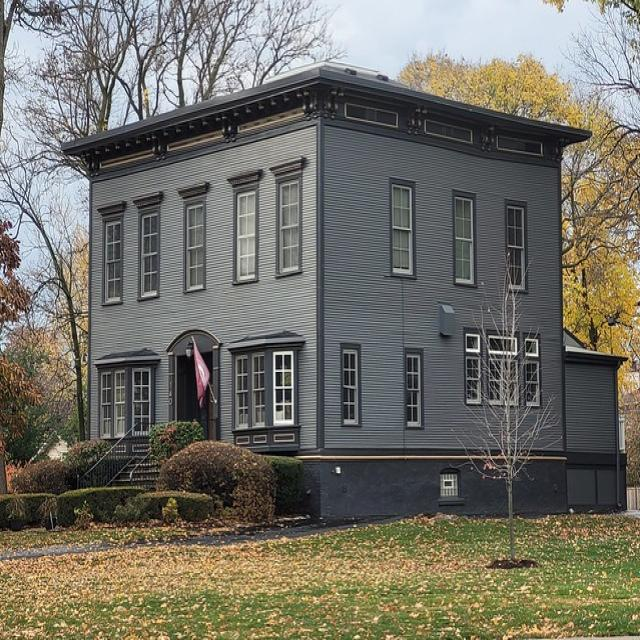building: (53, 58, 626, 516)
